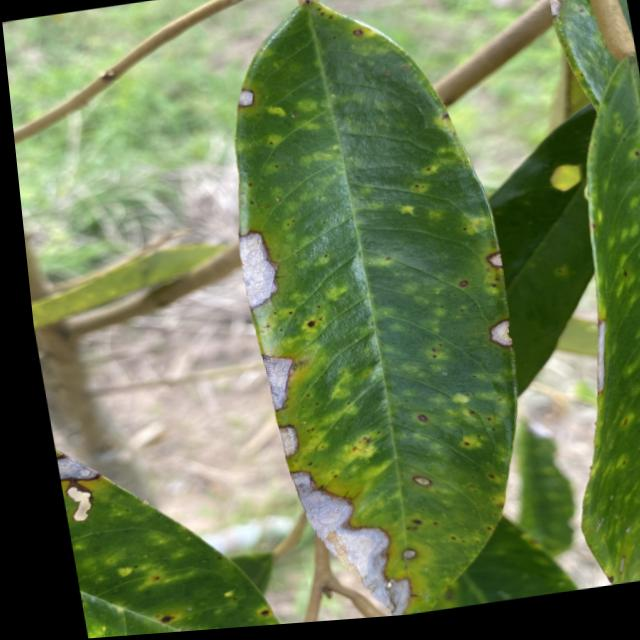Leaf Spot: (251, 458, 434, 628), (210, 196, 298, 323), (208, 54, 295, 134), (234, 340, 295, 422), (457, 306, 529, 363), (239, 414, 309, 455)
